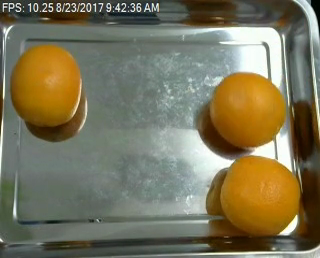Orange: (220, 154, 302, 235), (10, 43, 82, 125), (209, 72, 286, 148)
